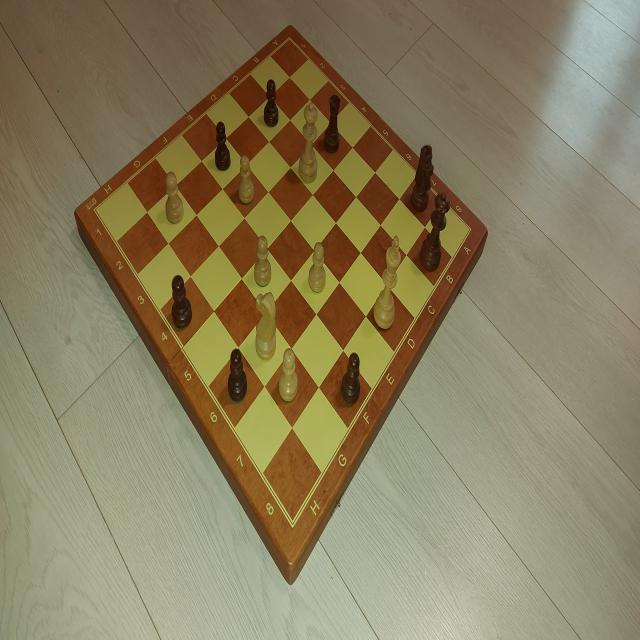chess-table-corners: (280, 499, 304, 536), (86, 197, 110, 230), (459, 214, 477, 243), (281, 30, 298, 56)
